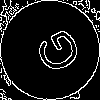G: (25, 25, 84, 82)
